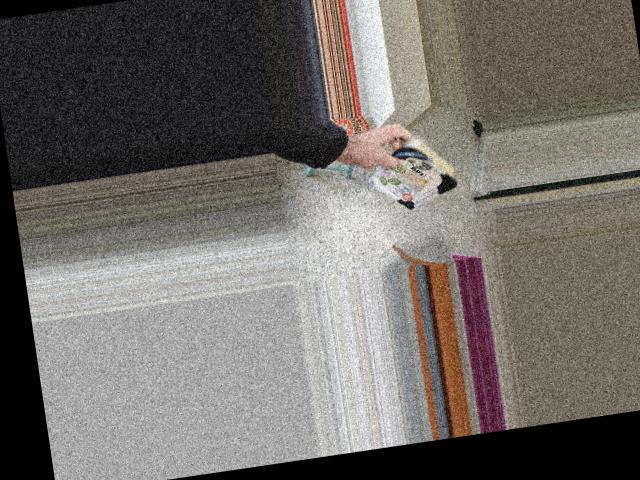cheese: (368, 108, 461, 224)
